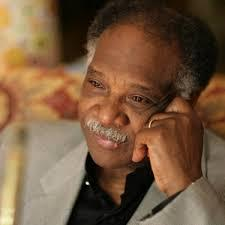Persons: (75, 0, 210, 175)
